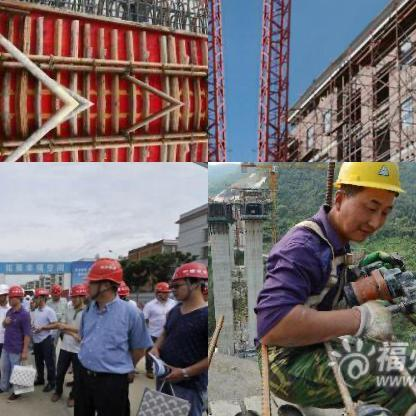Helmet: (321, 162, 413, 244), (83, 256, 121, 298), (166, 260, 206, 298), (67, 280, 85, 304), (153, 278, 169, 300), (112, 277, 127, 299), (31, 286, 47, 304), (6, 284, 20, 304), (48, 281, 62, 299), (0, 282, 8, 302)
